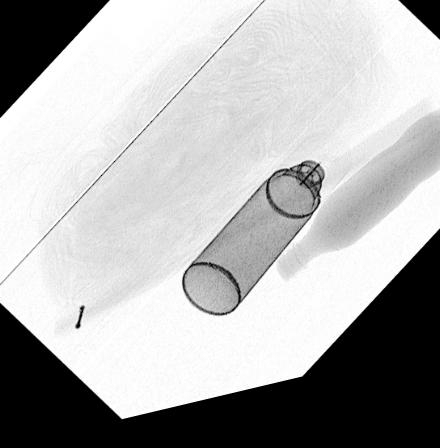Sprayer: (179, 148, 361, 328)
